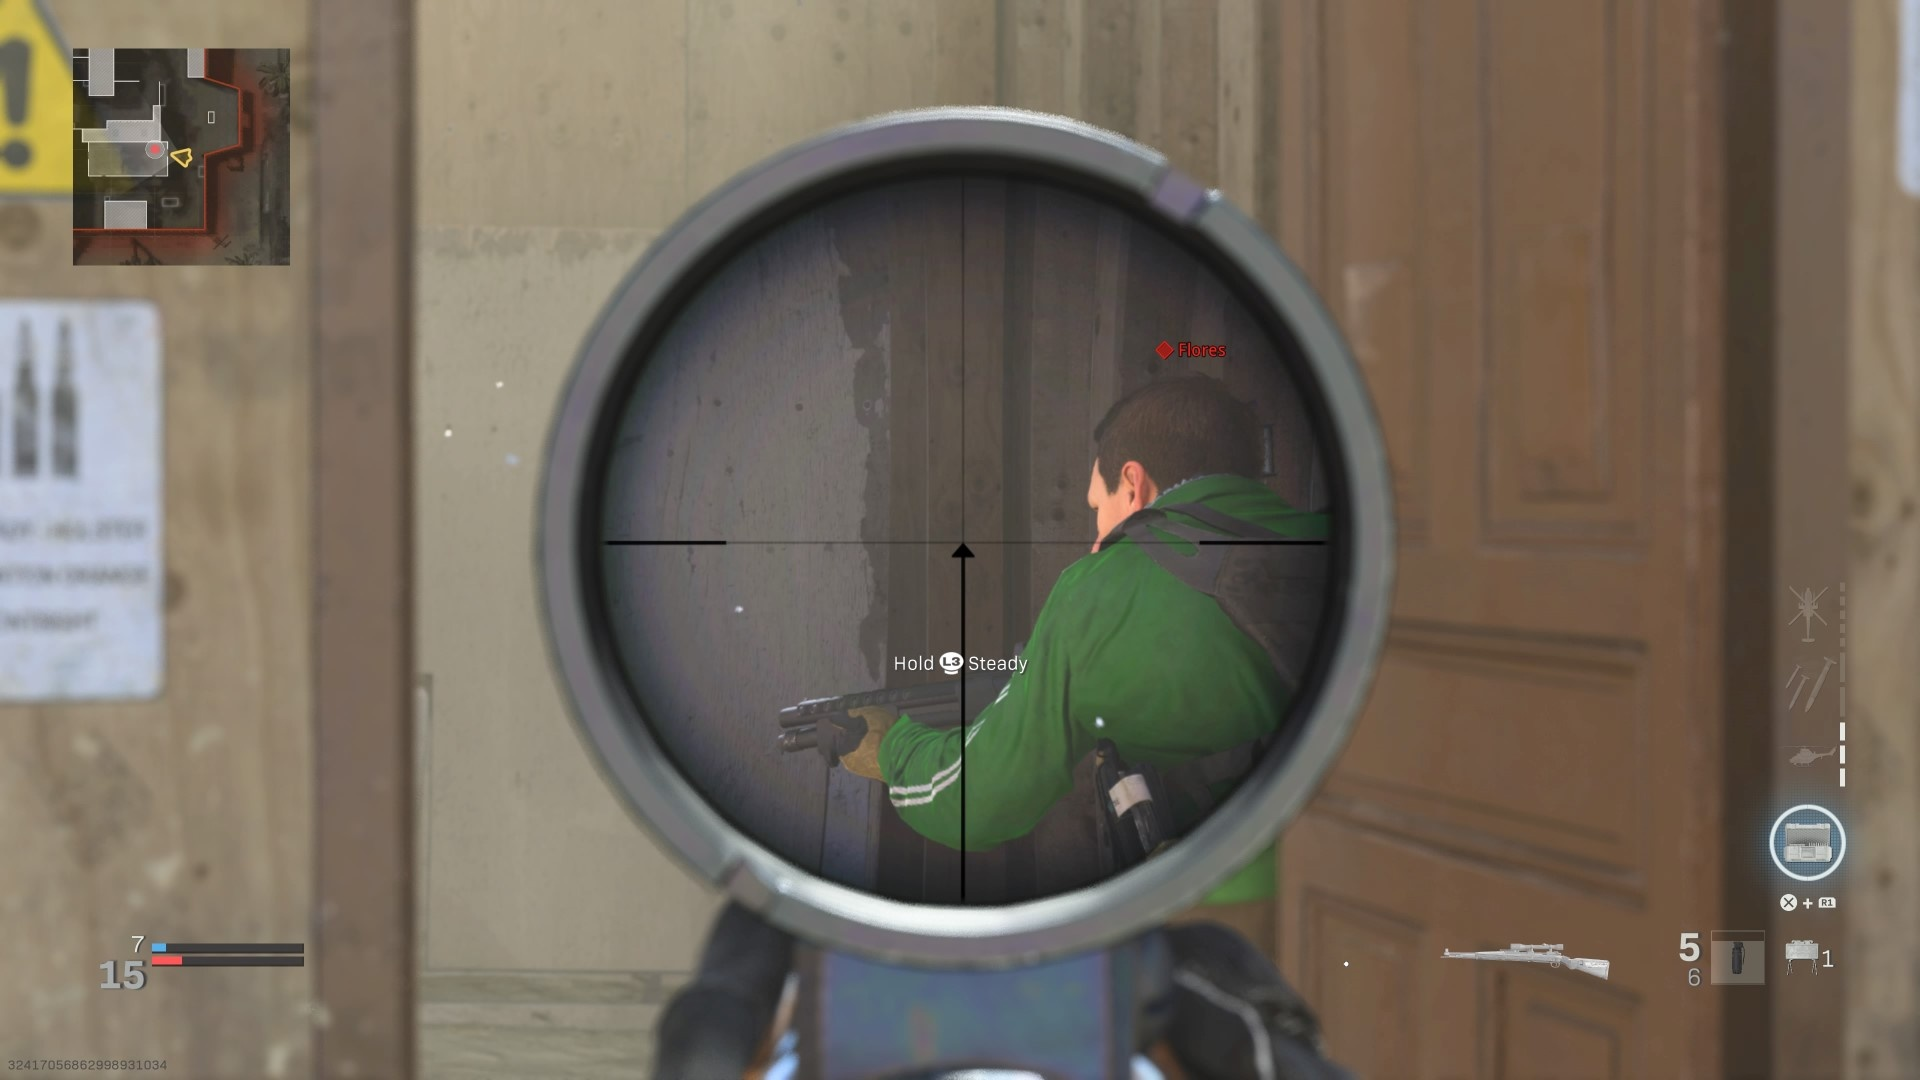head: (1076, 369, 1269, 561)
person: (798, 364, 1322, 861)
